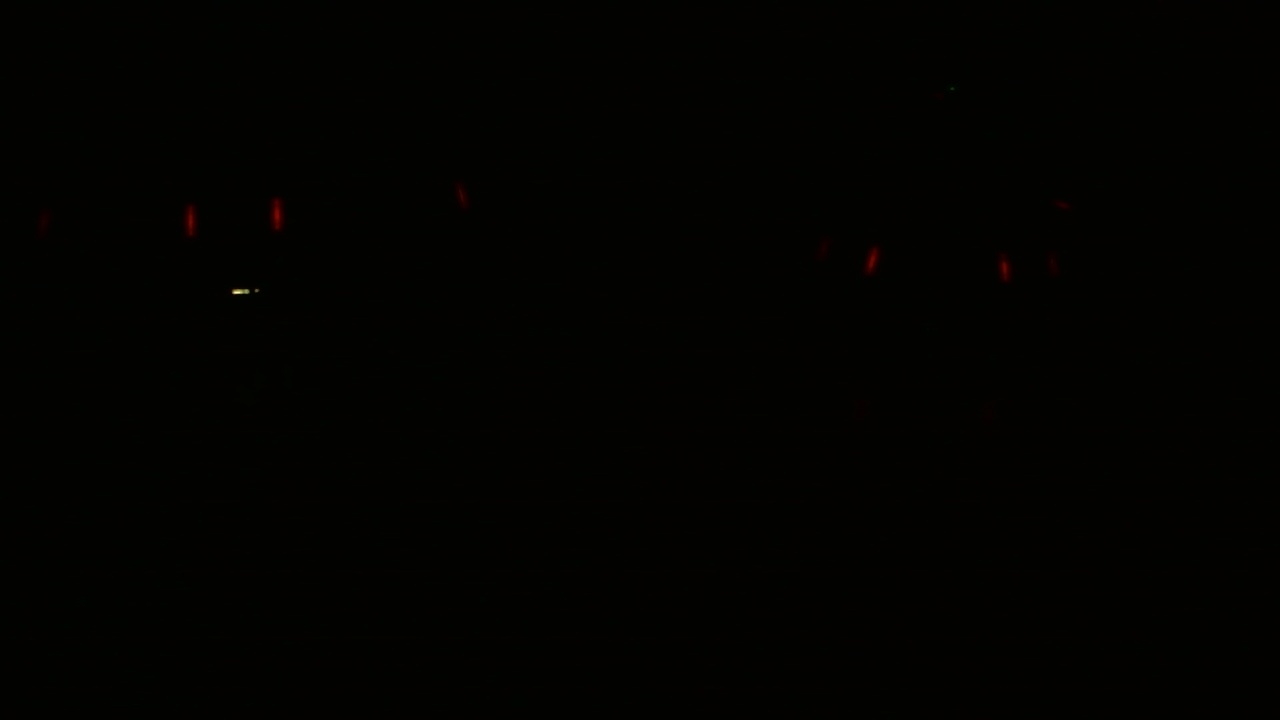pair1: (184, 199, 284, 238), (998, 252, 1067, 281)
